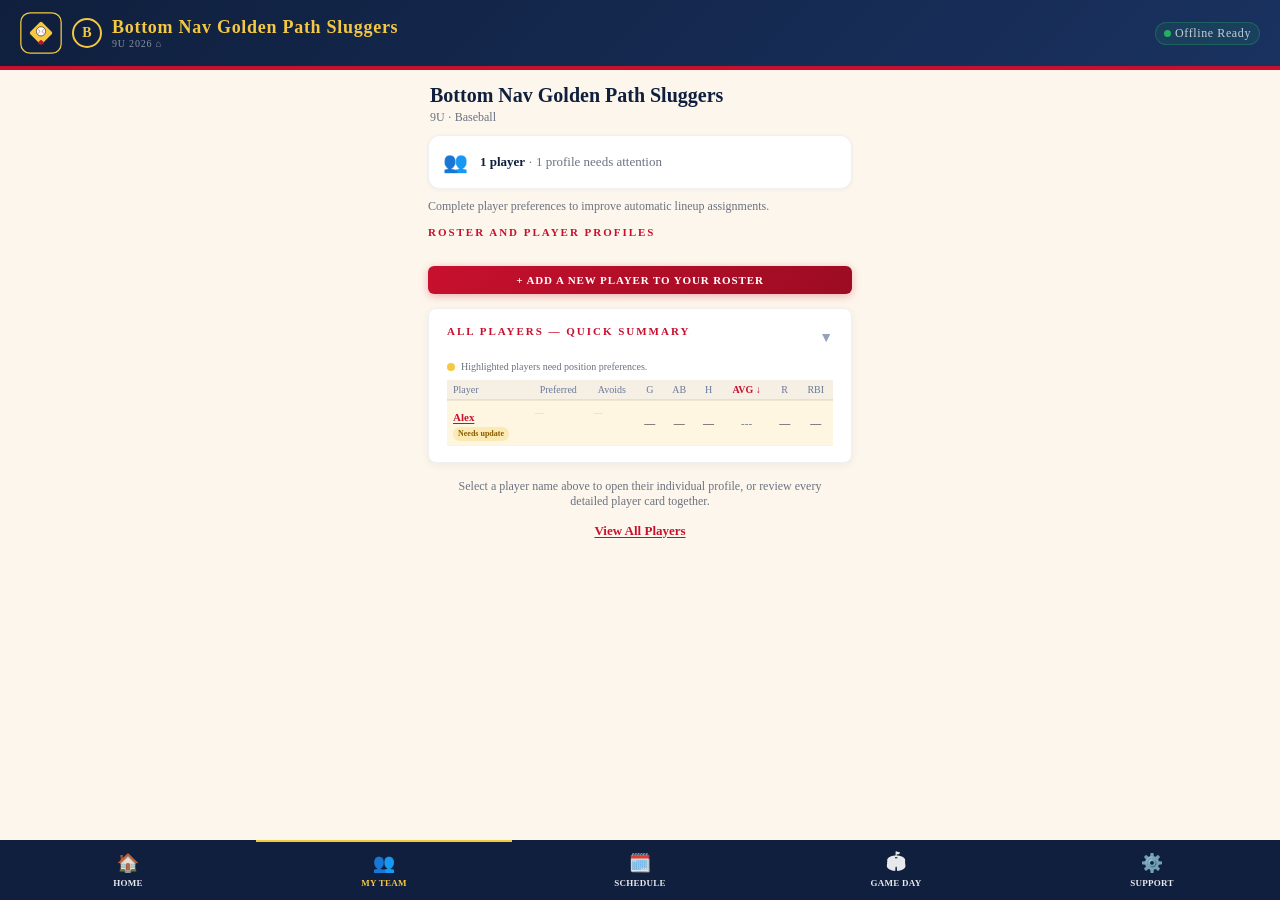
Test case: App Bottom Nav golden path (#943) › keeps Account legacy when only UX_SUPPORT is enabled
Step 1. Click the button "⚙️ Support" → point(1152, 870), box [1024,840,1279,899]
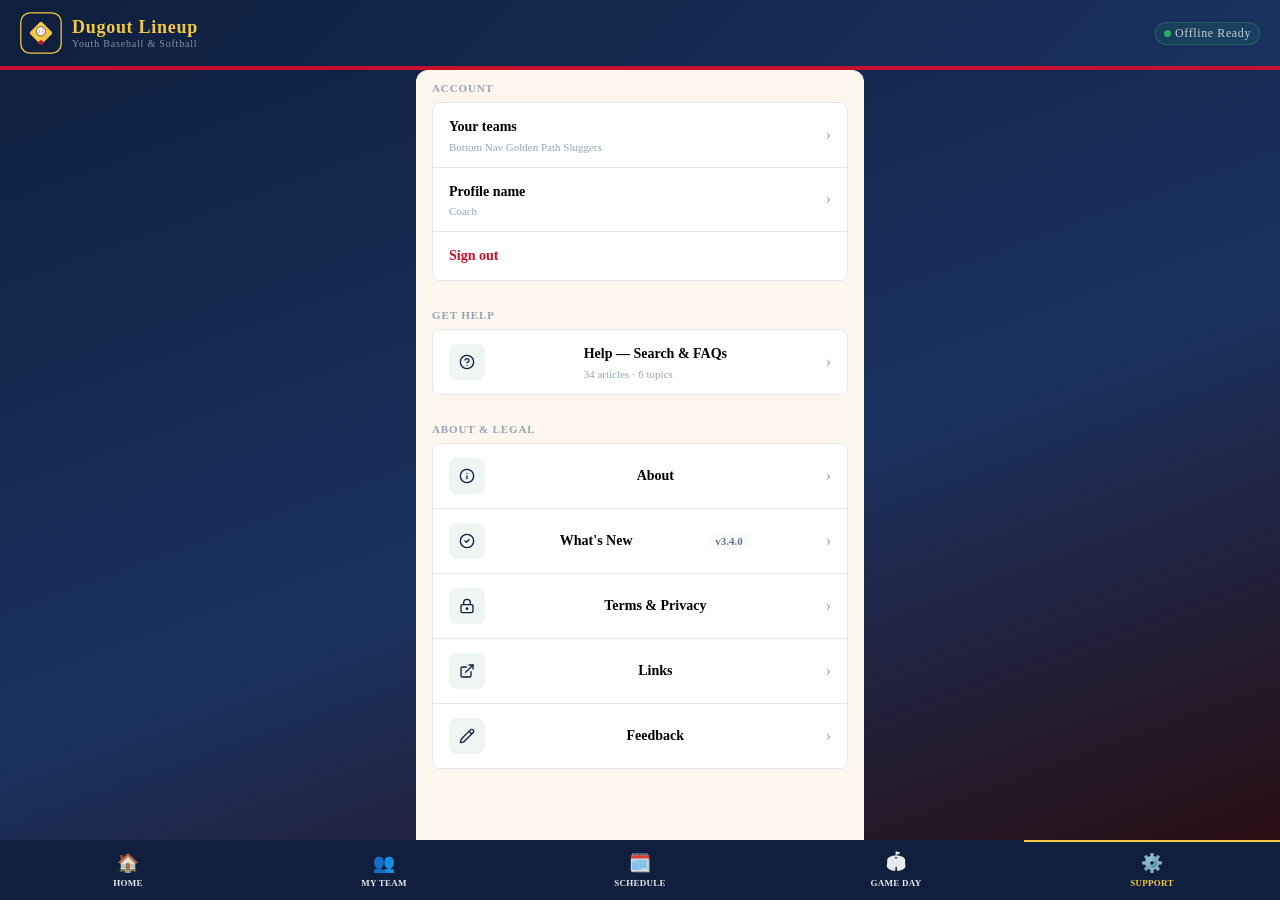
Step 2. Click the text "Profile name" → point(487, 191), box [449,182,525,201]
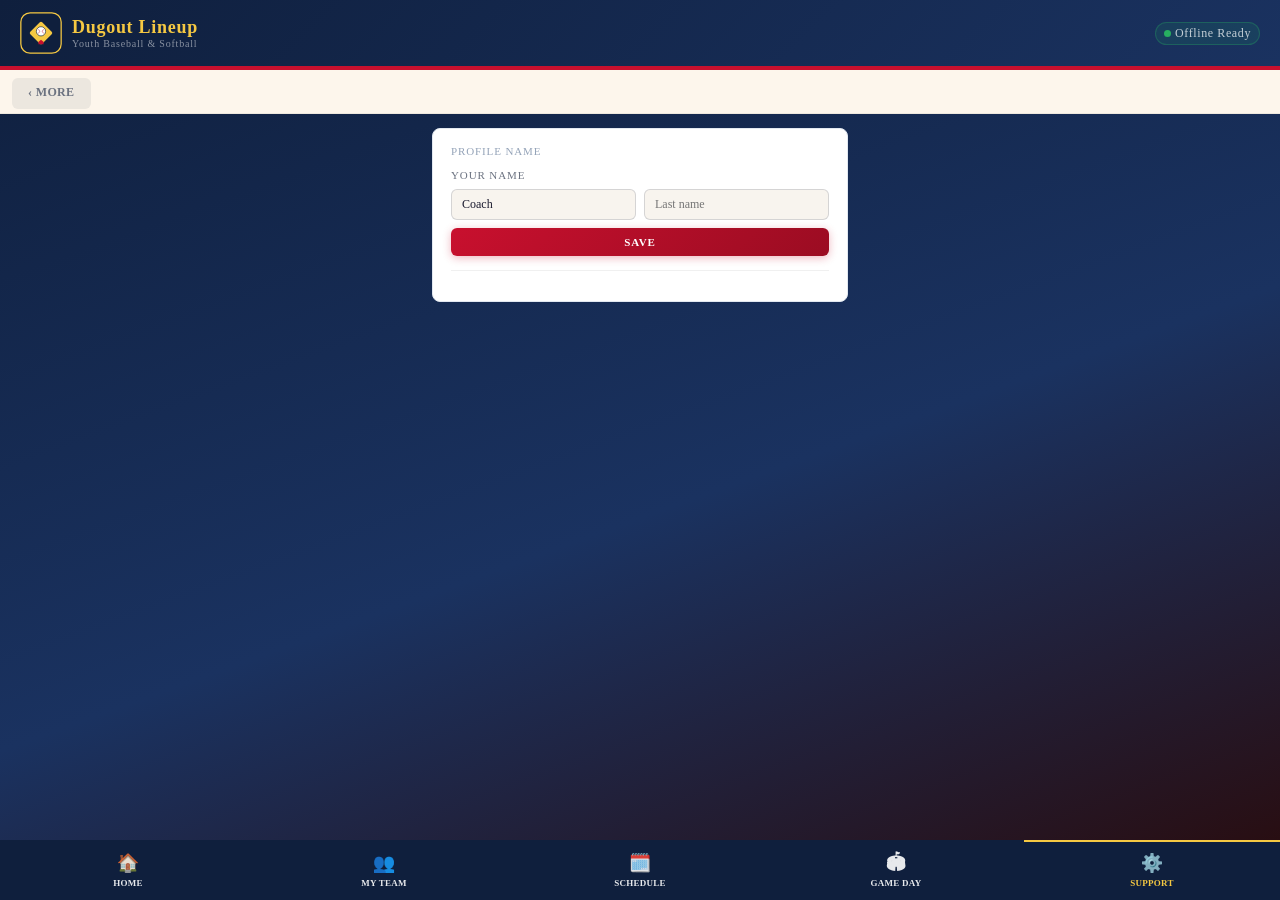
Expected: the button "Save" is shown, [451,228,829,256]
